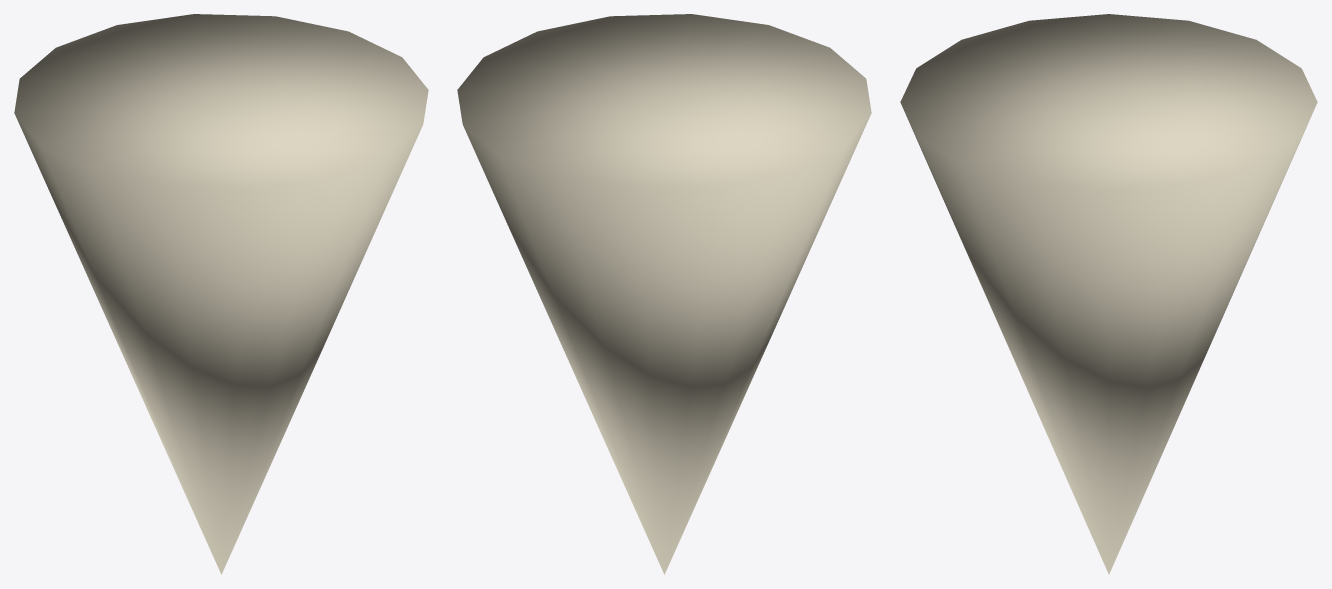
File: lamp_glow.glb
3 renders of one model, left to right at view 1: azimuth 30°, elevation 25°; view 2: azimuth 150°, elevation 25°; view 3: azimuth 270°, elevation 25°, orthographic.
Visible parts, largest first — view 1: lamp_glow_0; view 2: lamp_glow_0; view 3: lamp_glow_0.
Part boxes in pixels (box(x1,y1,x2,y2)): lamp_glow_0: box(14, 14, 428, 574); lamp_glow_0: box(457, 14, 871, 574); lamp_glow_0: box(900, 14, 1317, 574).
Size of the model in its own units: 0.6 by 0.75 by 0.6.
